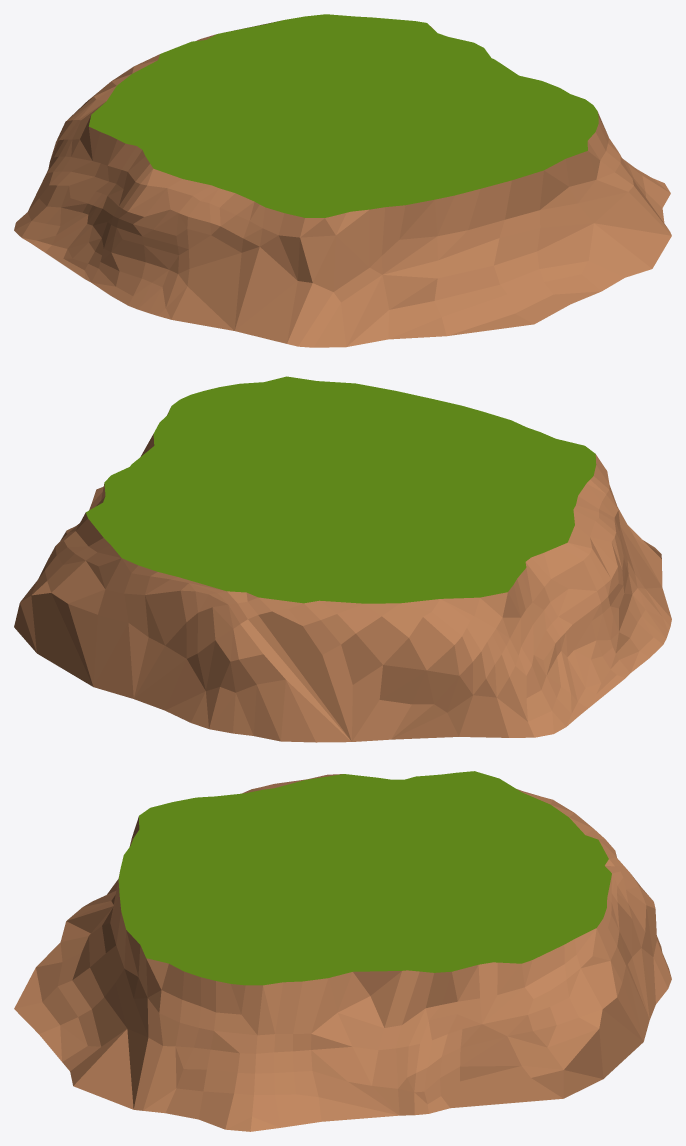
The model's file is Islands_19.fbx.
The picture shows the model from 3 angles, top to bottom: view 1: azimuth 30°, elevation 25°; view 2: azimuth 150°, elevation 25°; view 3: azimuth 270°, elevation 25°; orthographic projection. The views are drawn at different scales.
Parts seen in each view (by area): view 1: Islands_19; view 2: Islands_19; view 3: Islands_19.
Part boxes in pixels (x1,y1,x2,y2): Islands_19: [14, 14, 671, 347]; Islands_19: [14, 376, 671, 742]; Islands_19: [14, 771, 671, 1131].
Size of the model in its own units: 8095 by 1545 by 7874.
